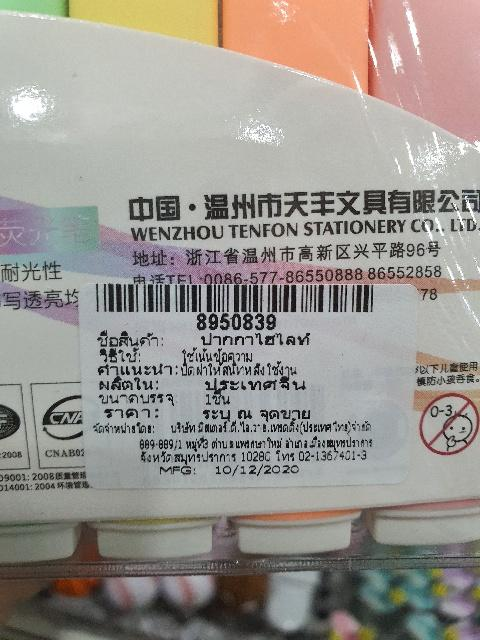Barcode: (86, 281, 382, 331)
